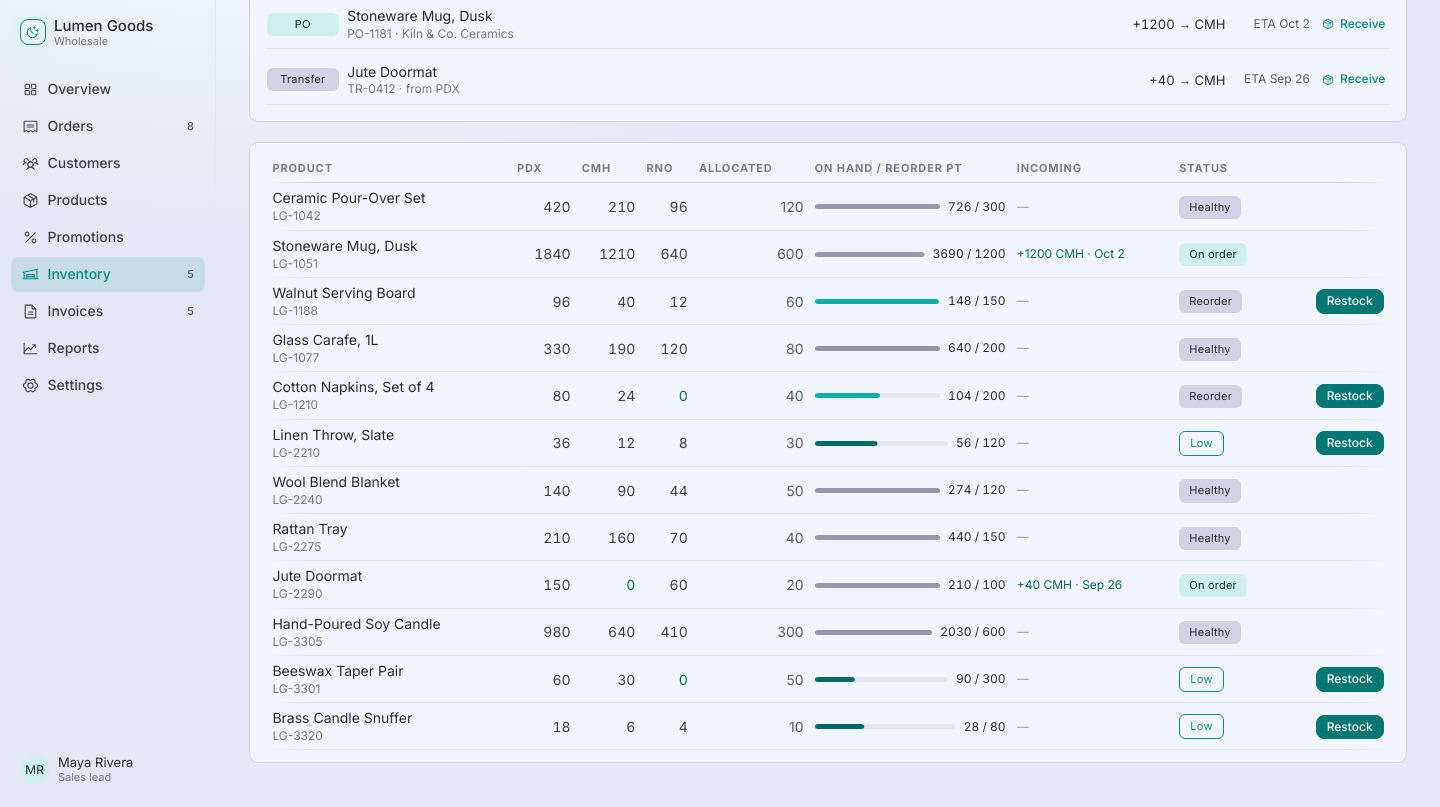
navigation › opens a product from Inventory with a back button to Inventory
(page scrolled)
Step 1. Click the row named "Open Jute Doormat" → (828, 585), box [267,561,1389,609]
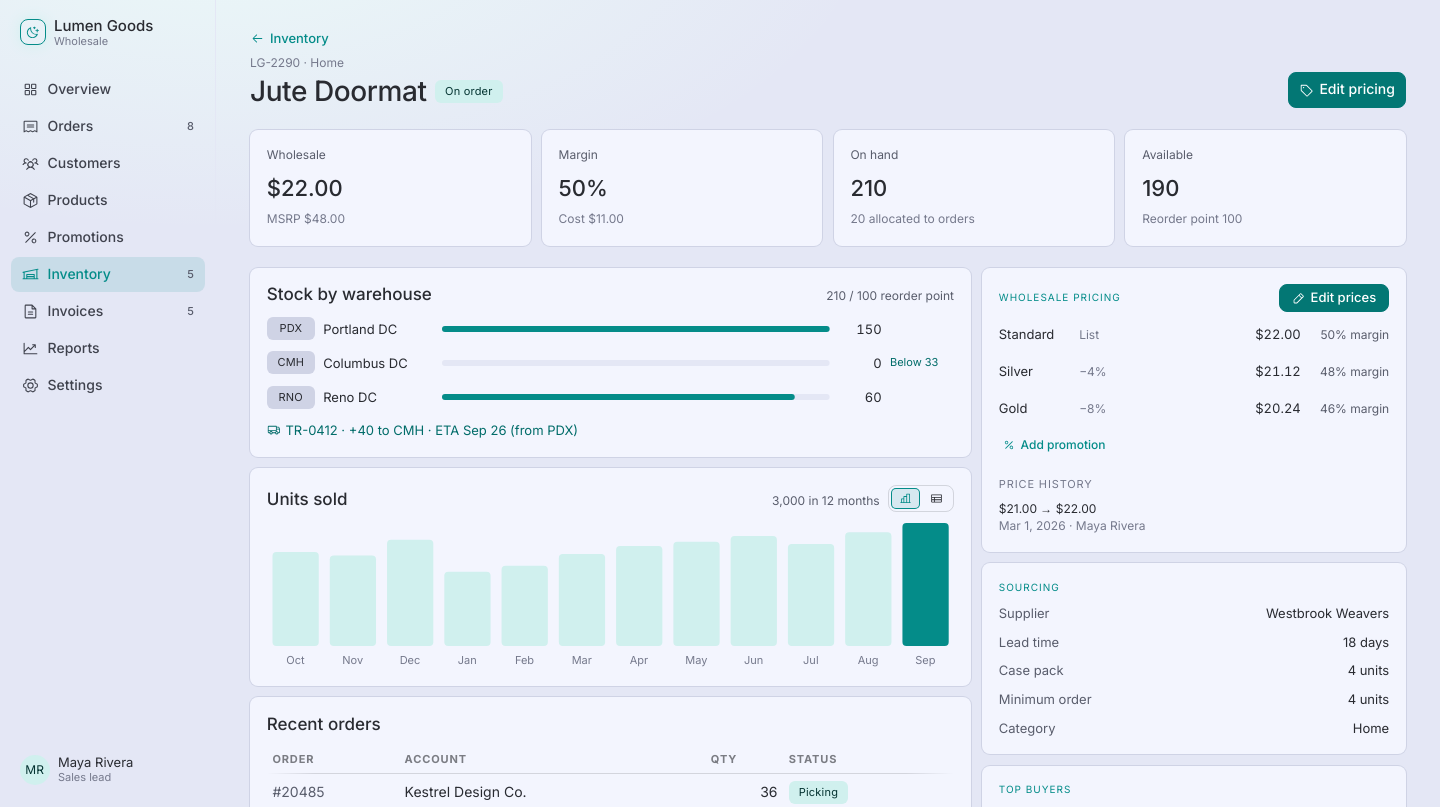
Expected: the heading "Jute Doormat" is shown, [250,76,427,108]
Expected: the button "Inventory" is shown, [246,28,334,50]
